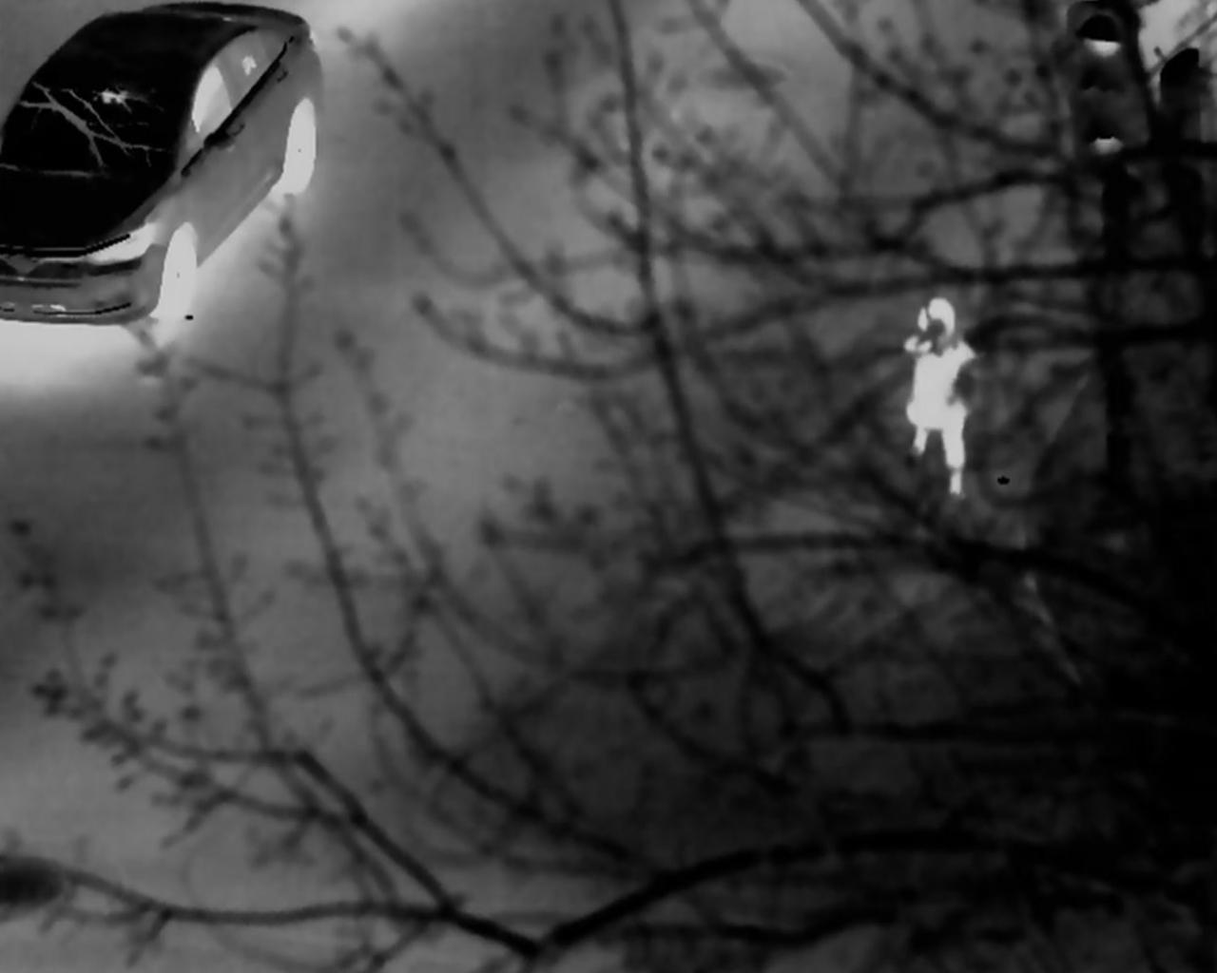person: (908, 289, 984, 490)
